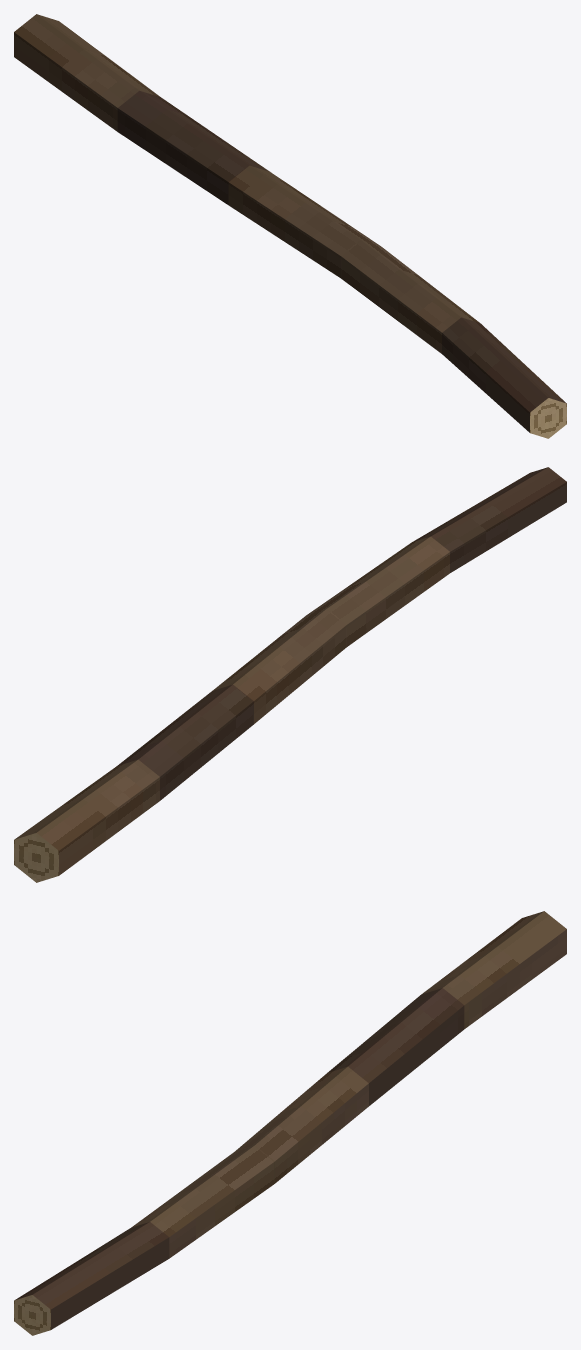
The model's file is fire_stick.glb.
3 views of the same model, one above another, from view 1: azimuth 30°, elevation 25°; view 2: azimuth 150°, elevation 25°; view 3: azimuth 330°, elevation 25° (orthographic).
Parts seen in each view (by area): view 1: FIRE_STICK; view 2: FIRE_STICK; view 3: FIRE_STICK.
Part boxes in pixels (left/top/right/bottom): FIRE_STICK: left=14, top=14, right=566, bottom=438; FIRE_STICK: left=14, top=467, right=566, bottom=882; FIRE_STICK: left=14, top=911, right=566, bottom=1335.
Bounding box in the file's own units: 0.0311 × 0.0248 × 0.46.
Materials: 1 (1 with a texture image).
